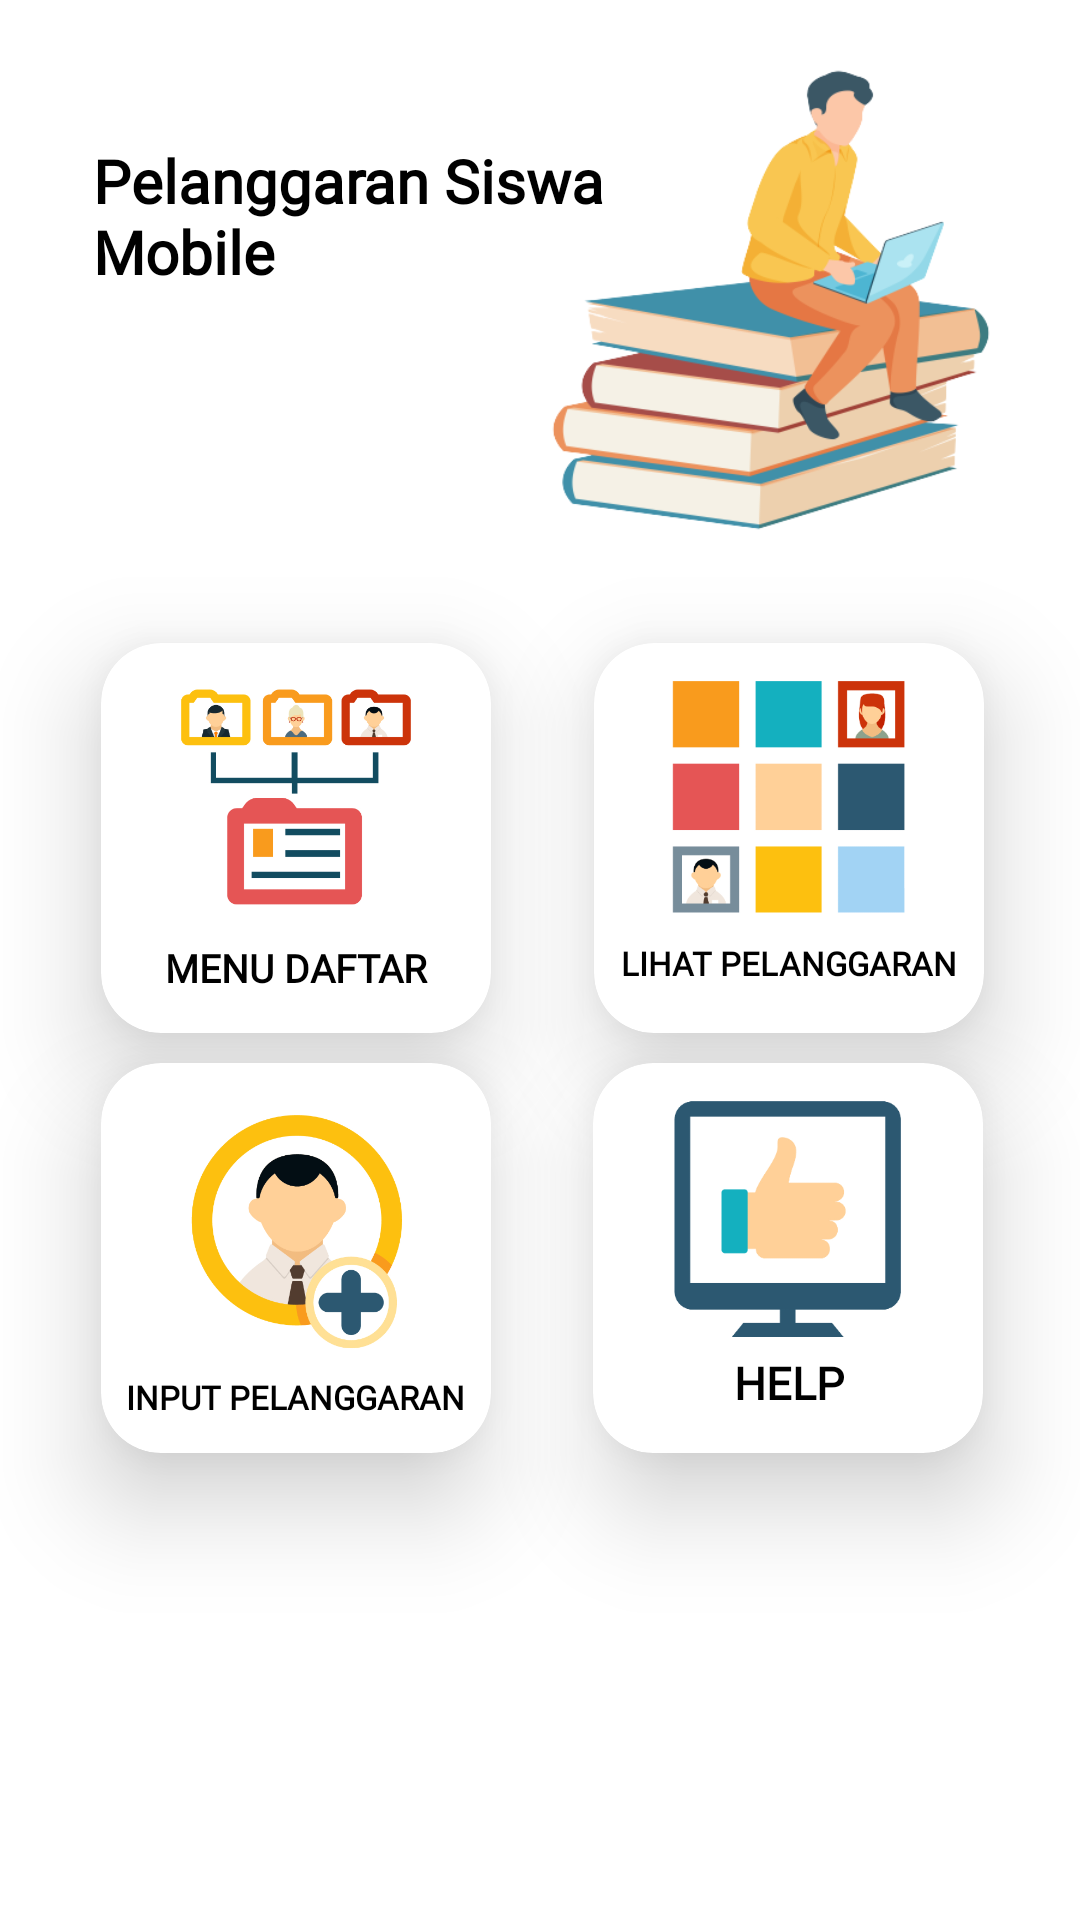

Locate icon controls on the screen. Image size 1080 × 1920, boxes as BBox(x1, y1, x2, y2).
jempol: BBox(674, 1101, 901, 1337)
tambah: BBox(191, 1115, 402, 1348)
